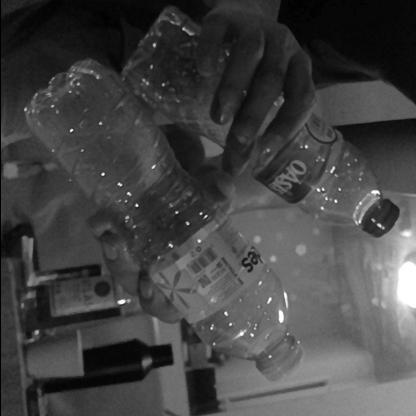plastic_bottles: (29, 74, 316, 382), (148, 9, 408, 230)
